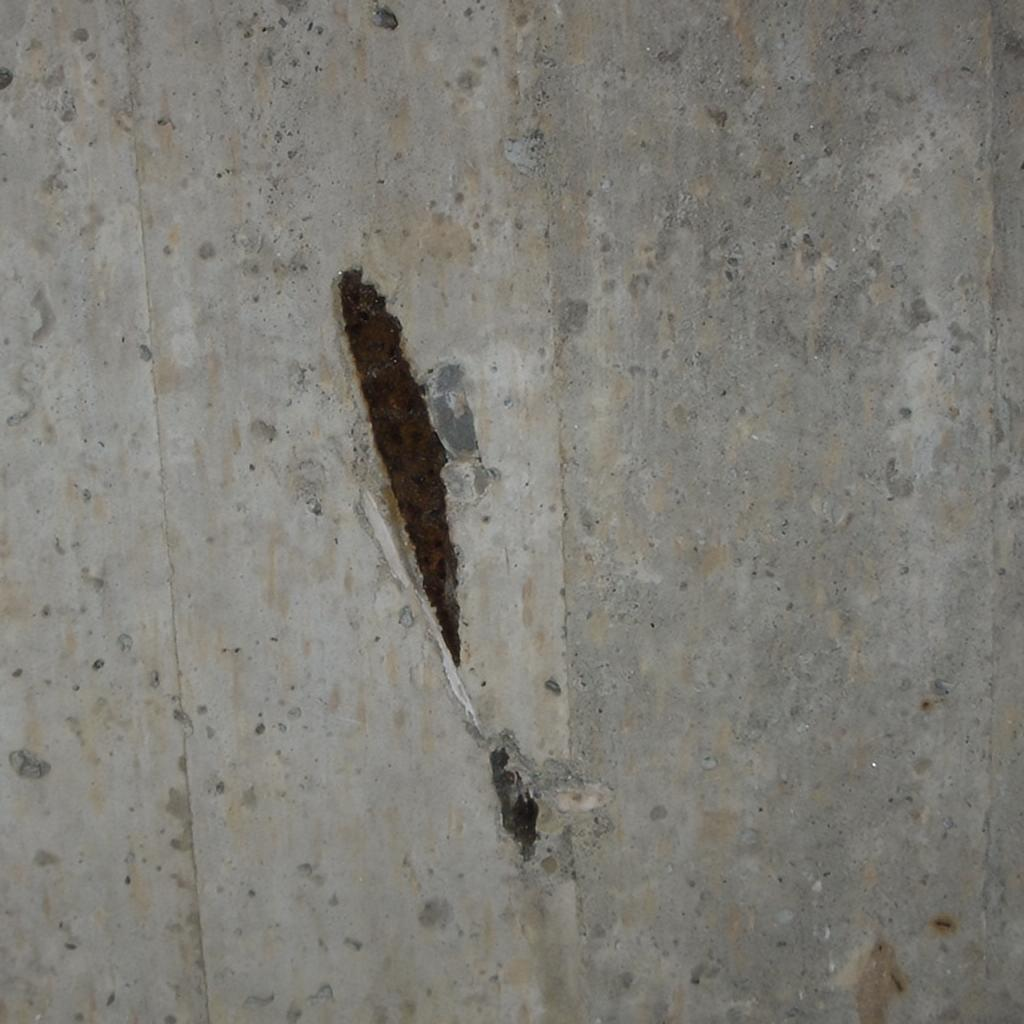exposed_rebar: (338, 270, 460, 671), (490, 746, 538, 857)
